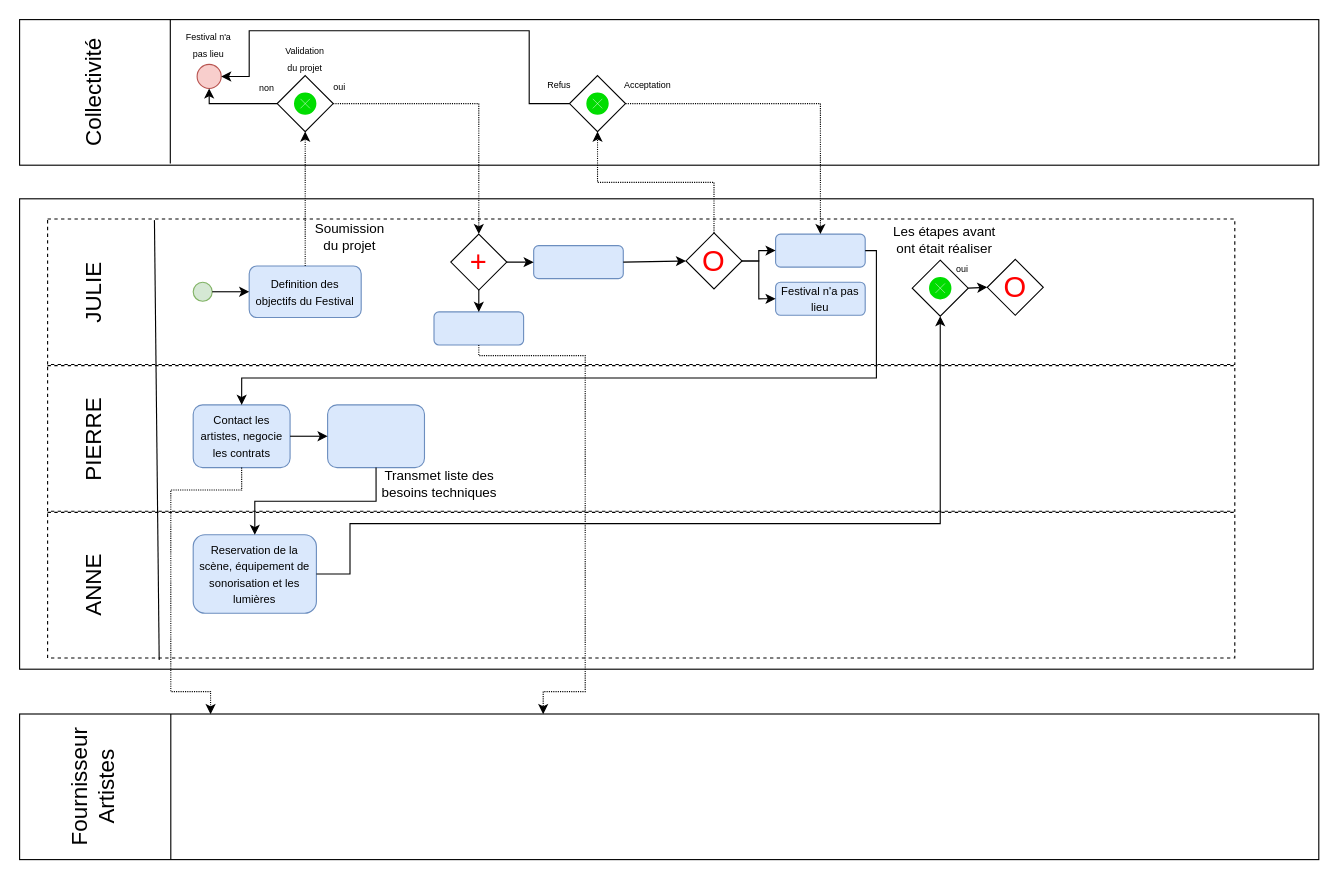
Image size: 1338x880. Some labels were removed from this diagram. Each missing label, with the centre of its shape:
"Contact les sponsors" belongs at (478,328).
"Demande de subvention" belongs at (578,261).
"Etablit une liste de besoin technique" belongs at (375,436).
"Festival a lieu" belongs at (819,250).
